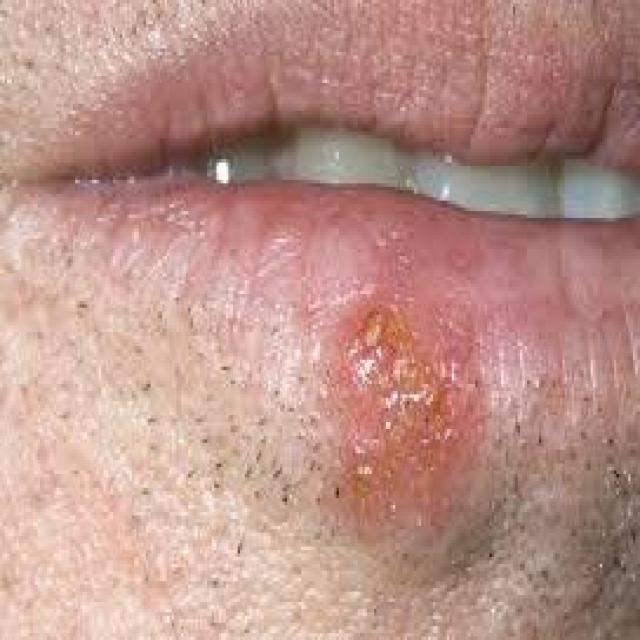processing_area: (3, 183, 638, 575)
ulcer-detection: (324, 275, 516, 554)
